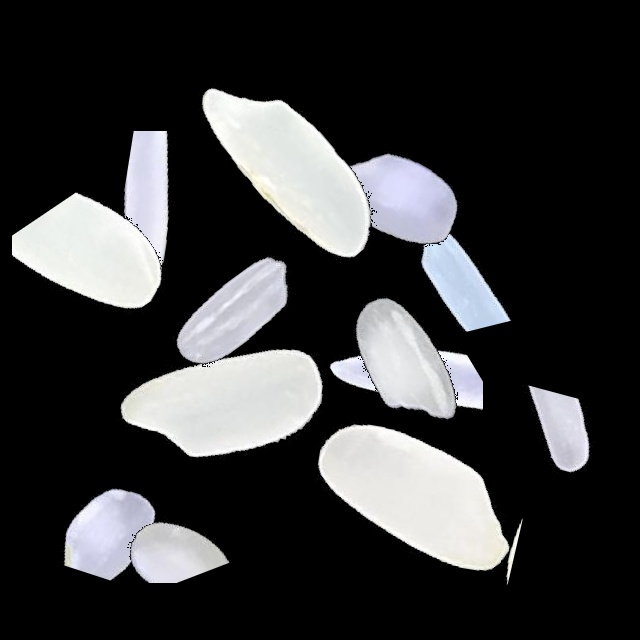Broken: (372, 123, 539, 373), (318, 279, 483, 529), (12, 154, 177, 404), (38, 374, 198, 624), (71, 131, 321, 278), (38, 442, 288, 583), (469, 332, 604, 582), (7, 243, 257, 351), (442, 388, 523, 638)
Full: (95, 273, 345, 523), (291, 372, 541, 622), (276, 71, 526, 321), (282, 234, 532, 484), (164, 39, 414, 289), (109, 187, 359, 437)
